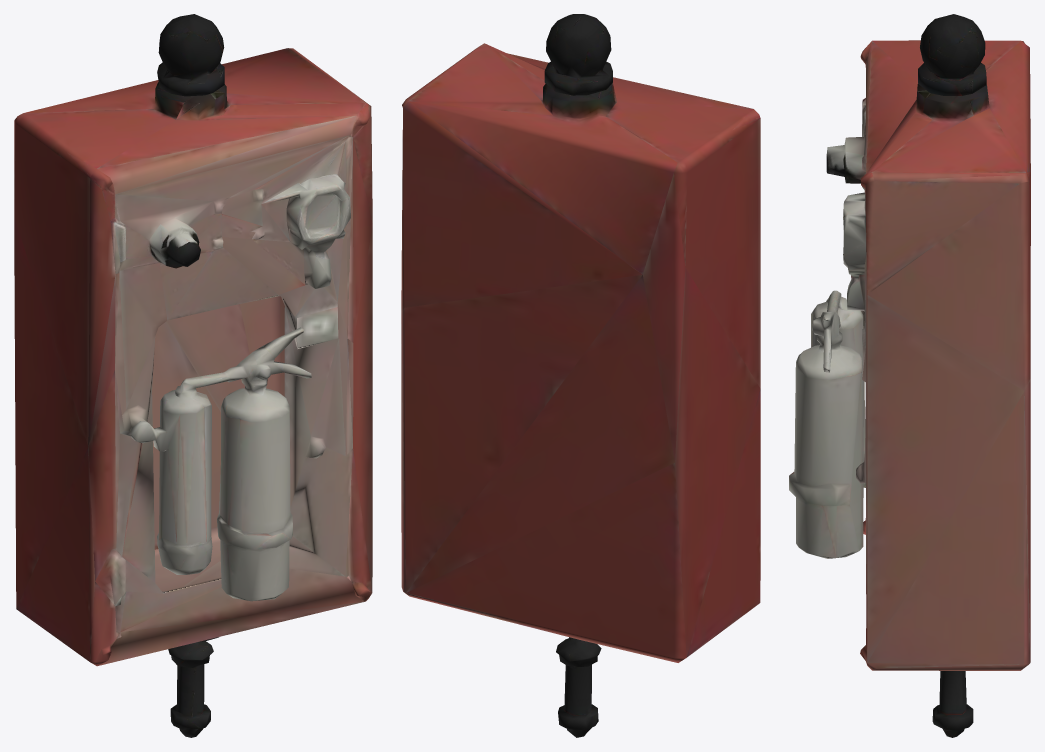
The picture shows the model from 3 angles, left to right: view 1: azimuth 30°, elevation 25°; view 2: azimuth 150°, elevation 25°; view 3: azimuth 270°, elevation 25°; orthographic projection.
Size of the model in its own units: 0.7832 by 1.9 by 0.5775.
1 material, 1 textured.
